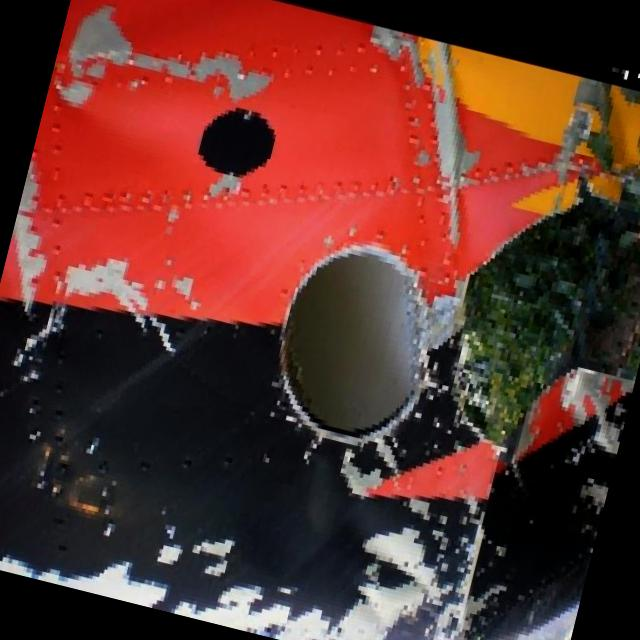dent: (234, 434, 394, 596), (42, 78, 198, 182)
